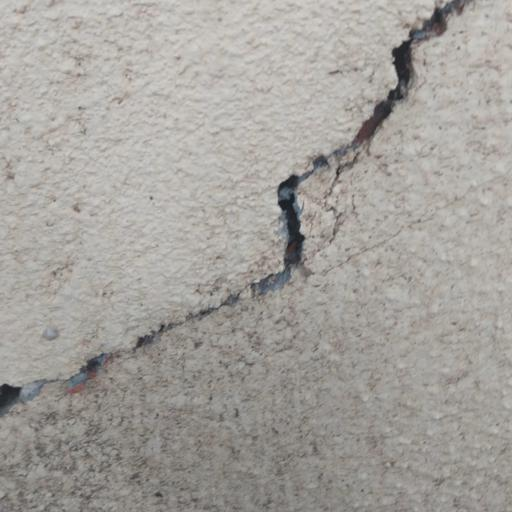major_crack: (0, 0, 470, 436)
